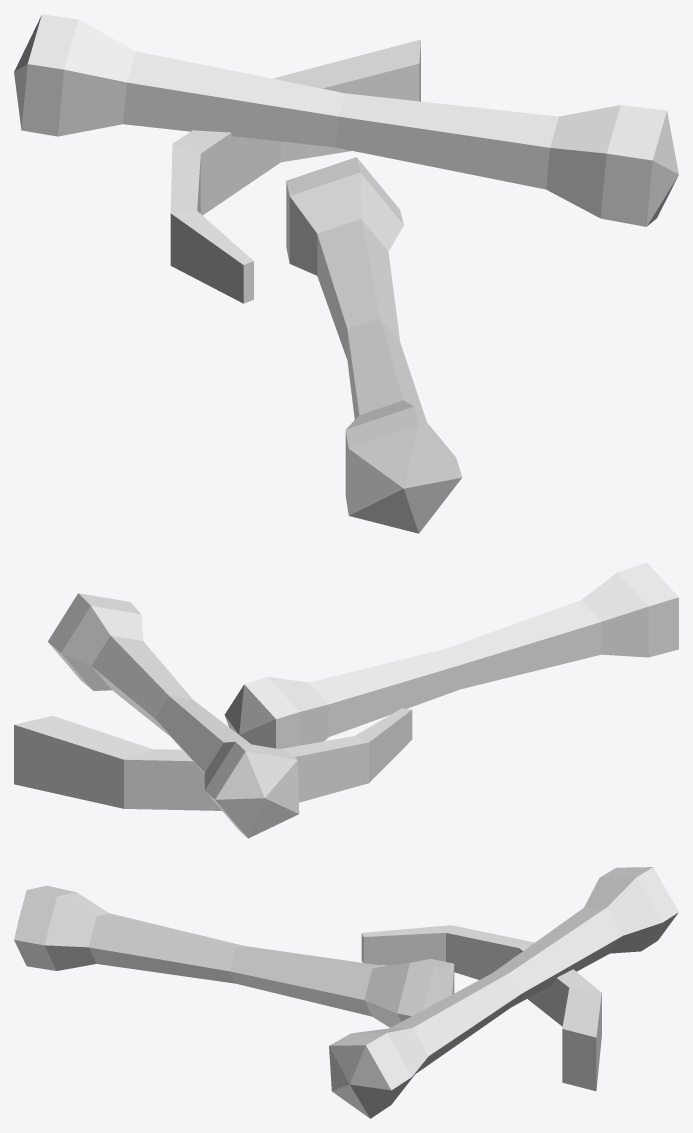
Rendered from SM_Env_BonePile_Small_01.fbx.
The picture shows the model from 3 angles, top to bottom: view 1: azimuth 30°, elevation 25°; view 2: azimuth 150°, elevation 25°; view 3: azimuth 270°, elevation 25°; orthographic projection. The views are drawn at different scales.
Parts seen in each view (by area): view 1: SM_Env_BonePile_Small_01; view 2: SM_Env_BonePile_Small_01; view 3: SM_Env_BonePile_Small_01.
Part boxes in pixels (x1=…): SM_Env_BonePile_Small_01: x1=14, y1=14, x2=678, y2=533; SM_Env_BonePile_Small_01: x1=14, y1=562, x2=678, y2=838; SM_Env_BonePile_Small_01: x1=14, y1=867, x2=678, y2=1118.
Size of the model in its own units: 1.04 by 0.3082 by 1.51.
